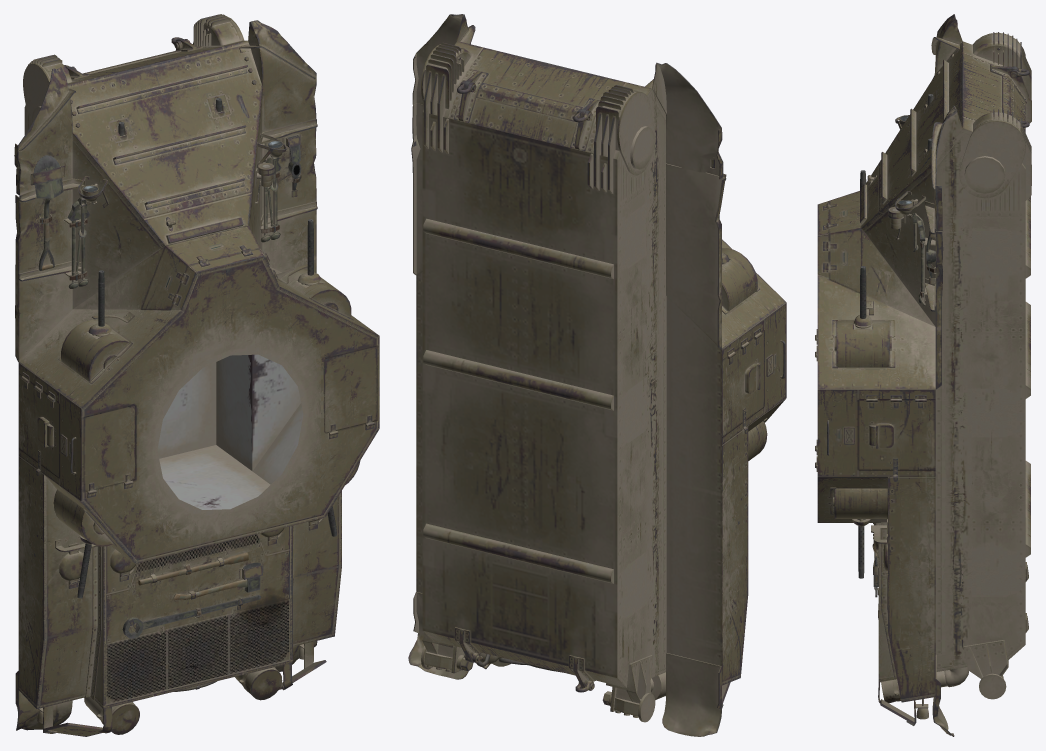
Rendered from Hull.glb.
3 renders of one model, left to right at view 1: azimuth 30°, elevation 25°; view 2: azimuth 150°, elevation 25°; view 3: azimuth 270°, elevation 25°, orthographic. The views are drawn at different scales.
Parts seen in each view (by area): view 1: set_0_group_0; view 2: set_0_group_0; view 3: set_0_group_0.
Boxes of the visible parts, bbox=[...] form: set_0_group_0: bbox=[14, 14, 379, 736]; set_0_group_0: bbox=[408, 14, 786, 736]; set_0_group_0: bbox=[815, 14, 1031, 736].
Size of the model in its own units: 2.63 by 5.34 by 1.7.
1 material, 1 textured.
